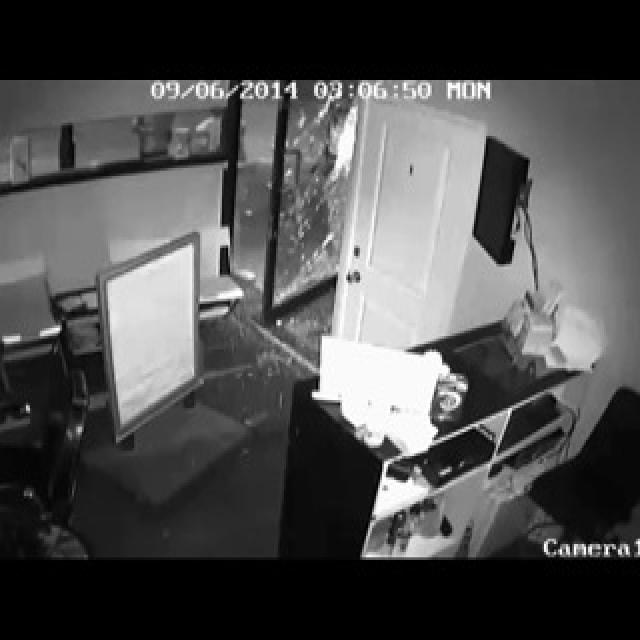burglary: (240, 110, 358, 338)
